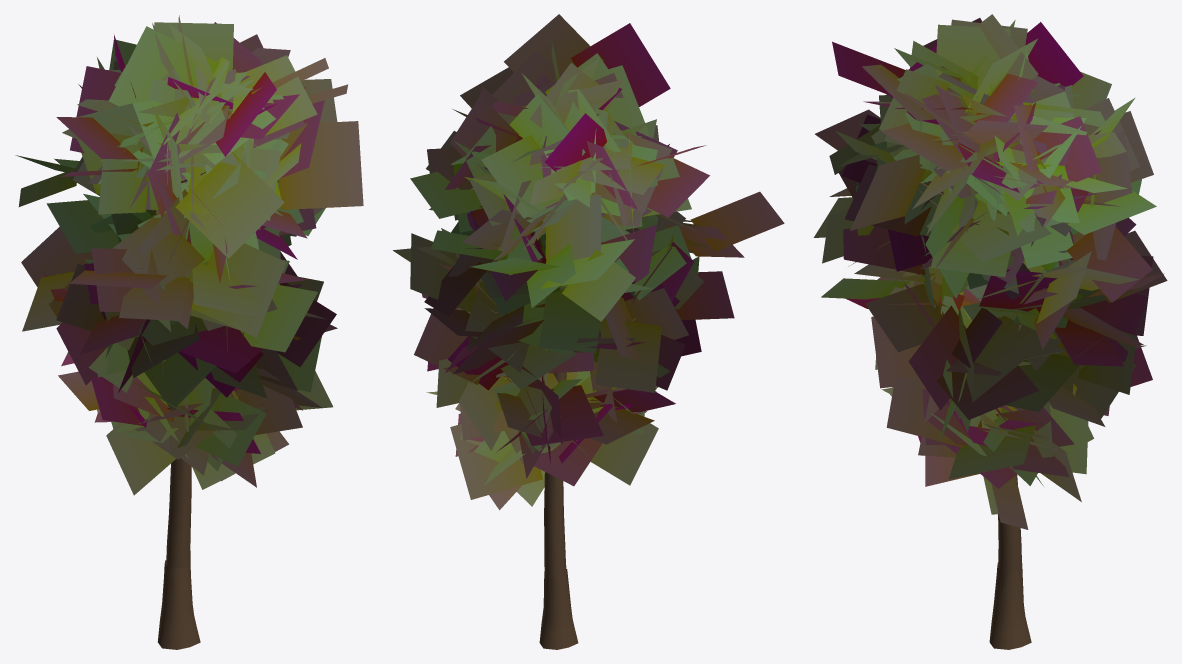
Rendered from tree_birch_2.glb.
The picture shows the model from 3 angles, left to right: view 1: azimuth 30°, elevation 25°; view 2: azimuth 150°, elevation 25°; view 3: azimuth 270°, elevation 25°; orthographic projection. The views are drawn at different scales.
Parts seen in each view (by area): view 1: Leaves, Trunk; view 2: Leaves, Trunk; view 3: Leaves, Trunk.
Part boxes in pixels (bbox=[...]): Leaves: bbox=[15, 15, 363, 495]; Trunk: bbox=[139, 171, 205, 649]; Leaves: bbox=[393, 14, 784, 510]; Trunk: bbox=[490, 243, 635, 649]; Leaves: bbox=[813, 14, 1167, 529]; Trunk: bbox=[917, 165, 1044, 649].
Bounding box in the file's own units: 4.29 × 7.95 × 4.09.
